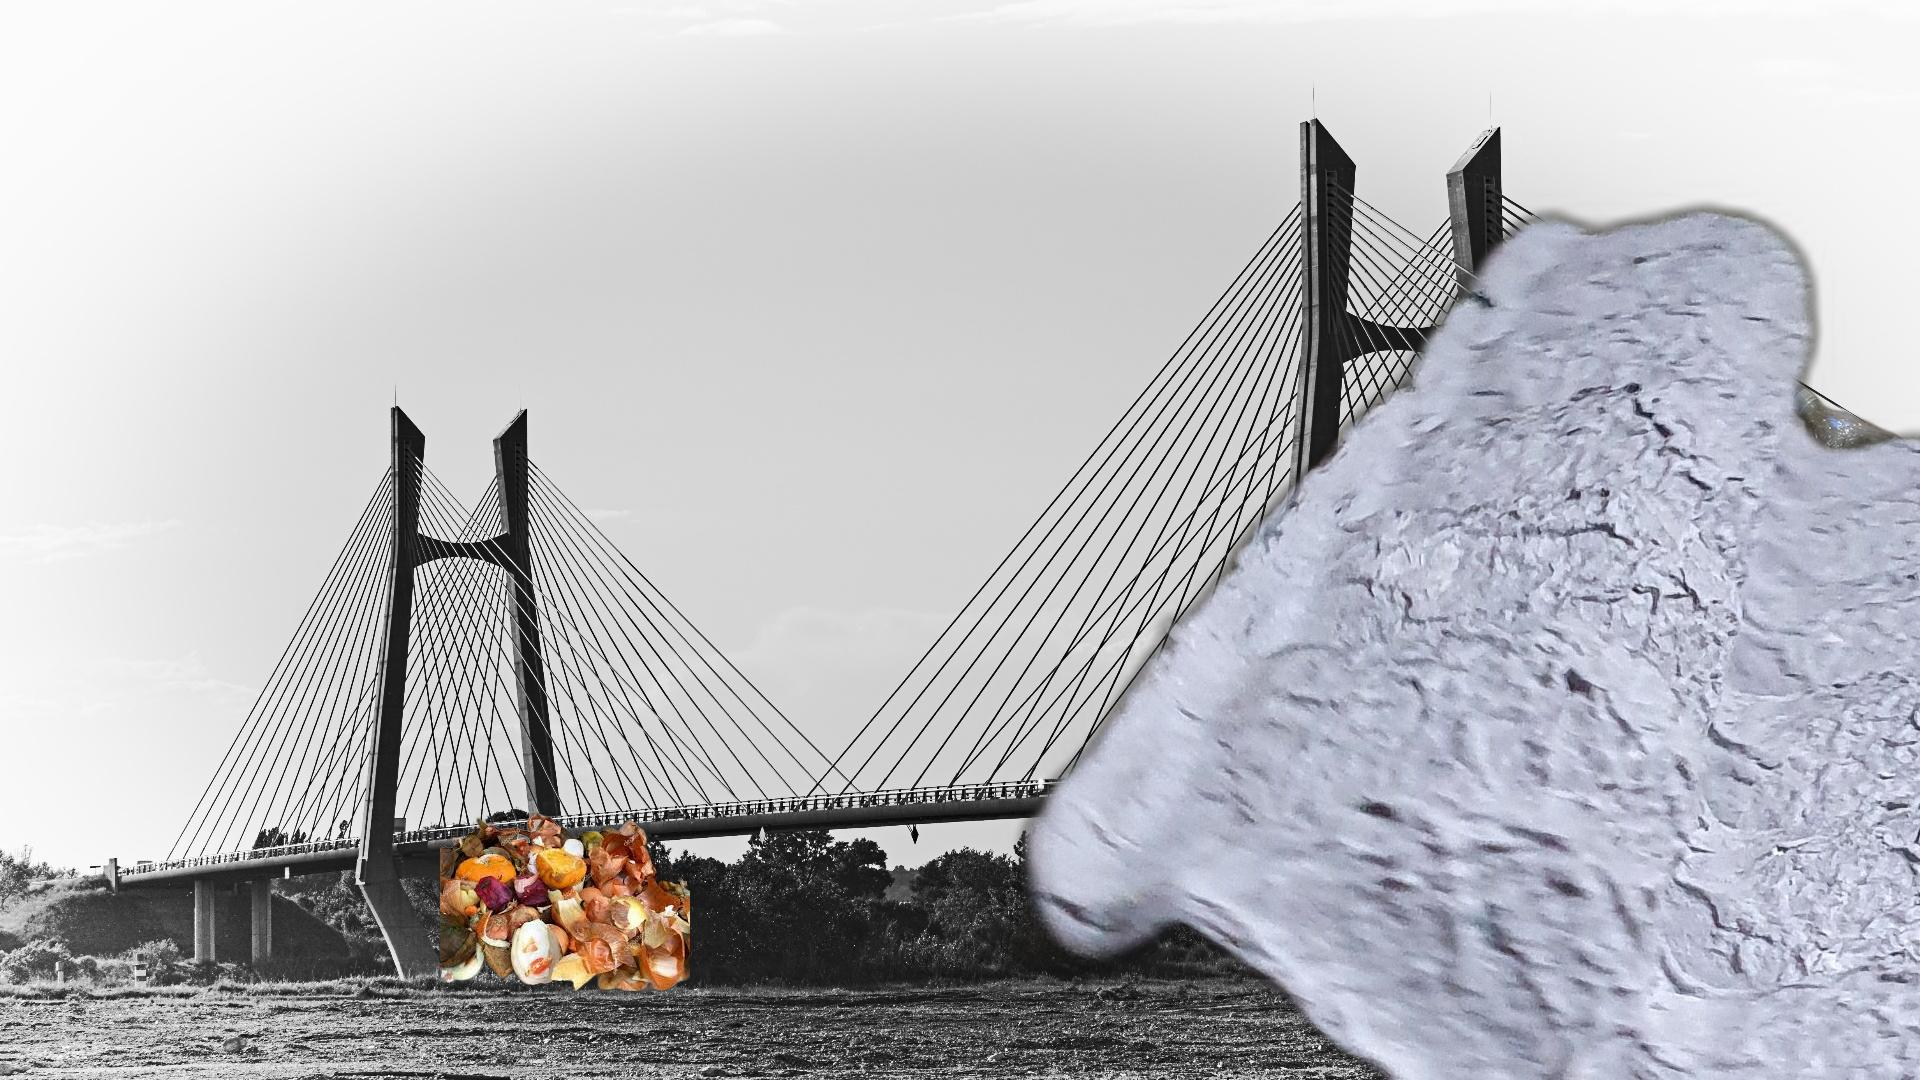biological: (440, 810, 690, 994)
metal-cans: (1621, 833, 1775, 952)
plastic-bottles: (1783, 378, 1920, 542), (1050, 1058, 1563, 1080)
trashbox-cardboard: (986, 181, 1920, 1080)
